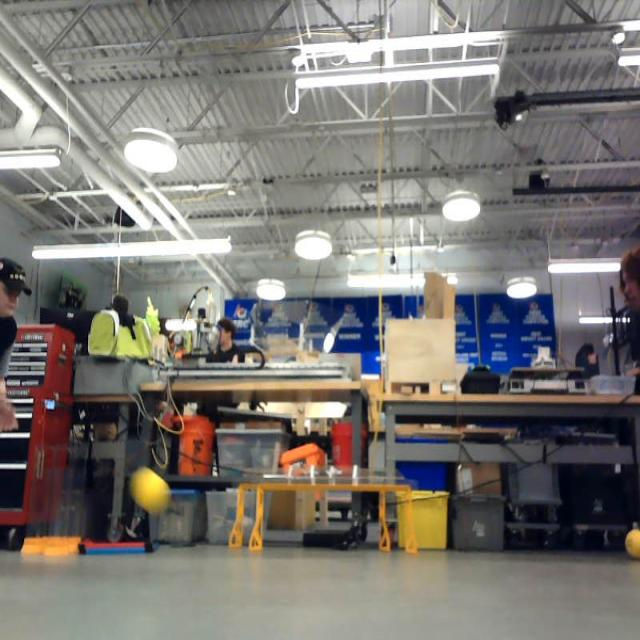Fuel: (133, 470, 169, 512), (625, 528, 640, 560)
